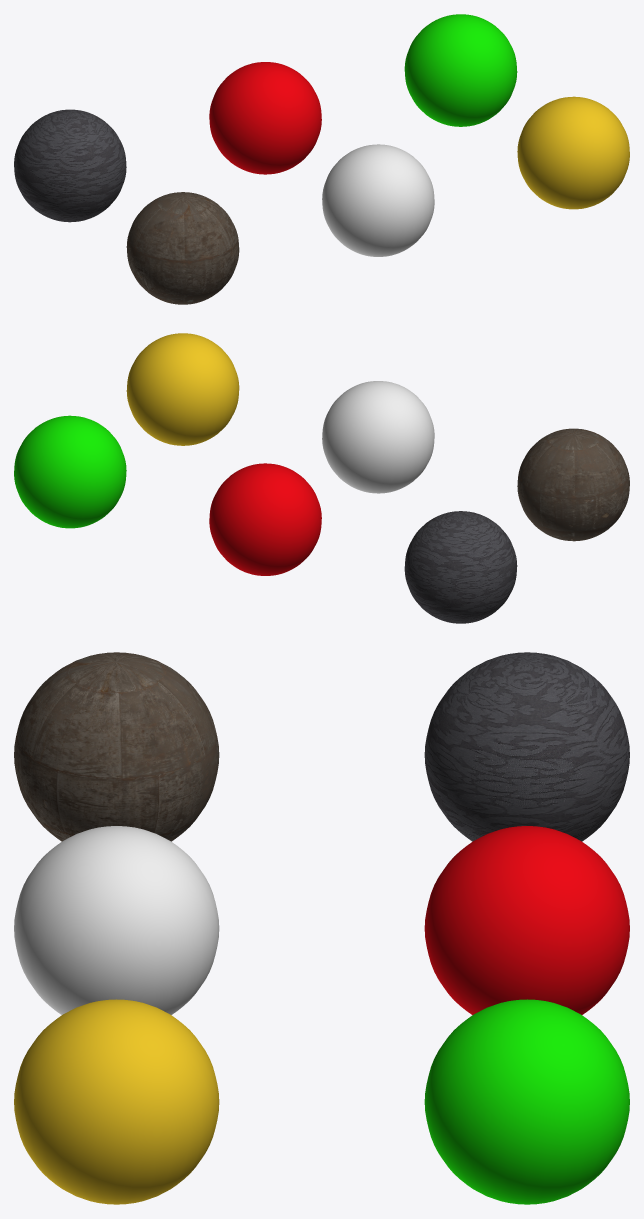
Rendered from pbr.glb.
3 views of the same model, one above another, from view 1: azimuth 30°, elevation 25°; view 2: azimuth 150°, elevation 25°; view 3: azimuth 270°, elevation 25° (orthographic). The views are drawn at different scales.
Visible parts, largest first — view 1: Sphere, Sphere.001, Sphere.002, Sphere.003, Sphere.004, Sphere.005; view 2: Sphere, Sphere.001, Sphere.002, Sphere.003, Sphere.004, Sphere.005; view 3: Sphere.001, Sphere.004, Sphere, Sphere.002, Sphere.003, Sphere.005.
Boxes of the visible parts, bbox=[...] form: Sphere: bbox=[322, 144, 434, 256]; Sphere.001: bbox=[517, 96, 629, 209]; Sphere.002: bbox=[126, 192, 239, 304]; Sphere.003: bbox=[209, 62, 321, 174]; Sphere.004: bbox=[404, 14, 517, 126]; Sphere.005: bbox=[14, 109, 126, 222]; Sphere: bbox=[322, 381, 434, 493]; Sphere.001: bbox=[126, 333, 239, 445]; Sphere.002: bbox=[517, 428, 629, 541]; Sphere.003: bbox=[209, 463, 321, 575]; Sphere.004: bbox=[14, 415, 126, 528]; Sphere.005: bbox=[404, 511, 517, 623]; Sphere.001: bbox=[14, 999, 219, 1204]; Sphere.004: bbox=[424, 999, 629, 1204]; Sphere: bbox=[14, 826, 219, 1014]; Sphere.002: bbox=[14, 652, 219, 841]; Sphere.003: bbox=[424, 826, 629, 1014]; Sphere.005: bbox=[424, 652, 629, 841].
Size of the model in its own units: 5 by 1 by 3.
Materials: 6 (2 with a texture image).
